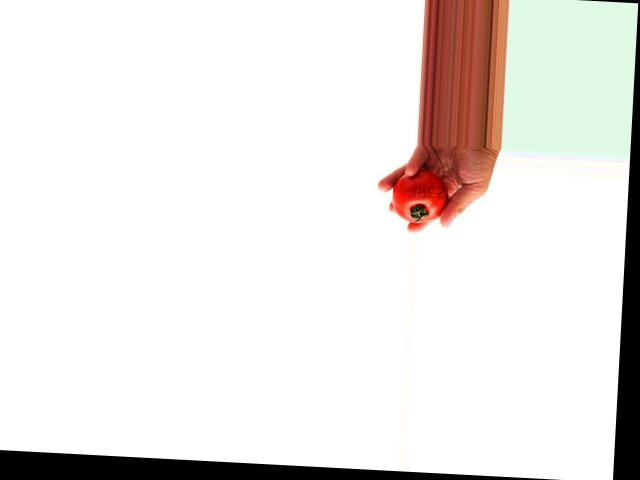tomato: (390, 168, 449, 224)
